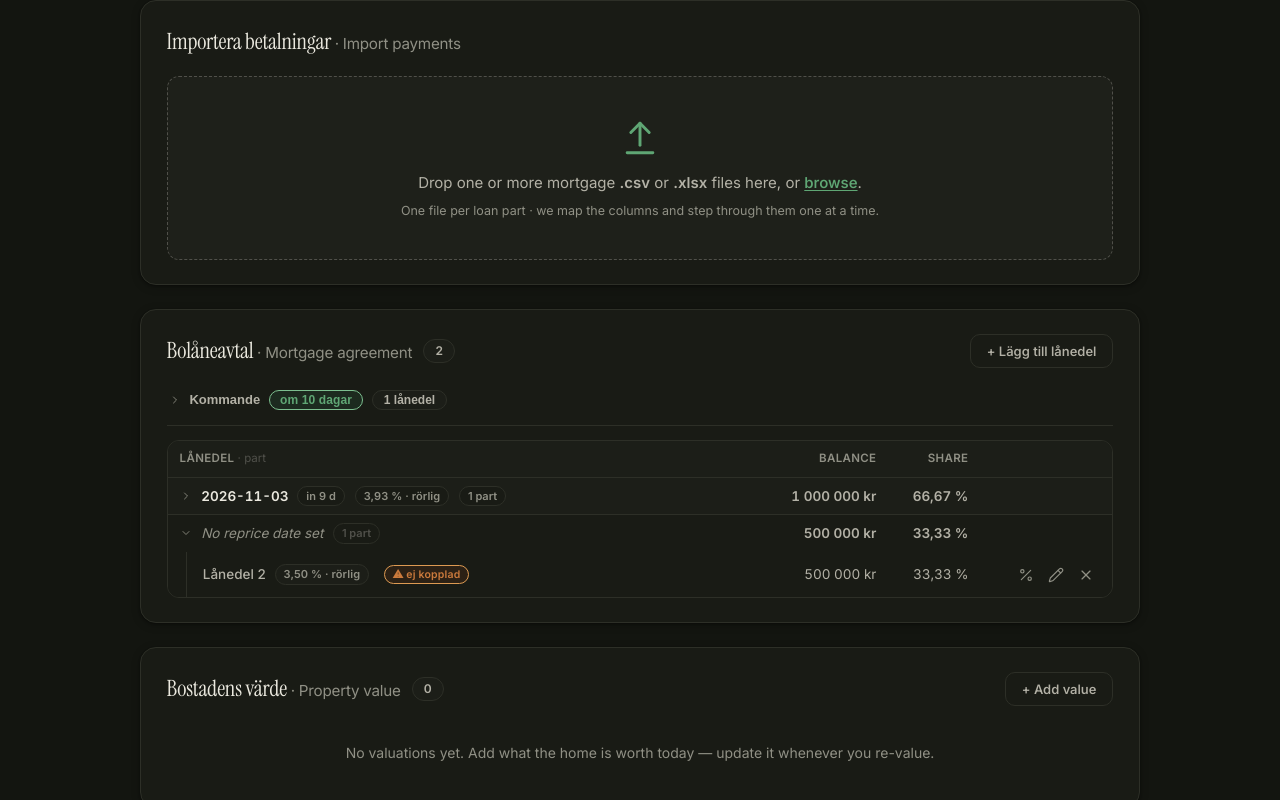
Test case: Bolanekoll — Kommande band (plan 127 §4) › expanding reveals every group and each row carries no balance/share values
The width and height of the screenshot is (1280, 800).
(page scrolled)
Click the button with aria-label "kommande ränteperioder" at point(308, 400), box [167,386,449,414]
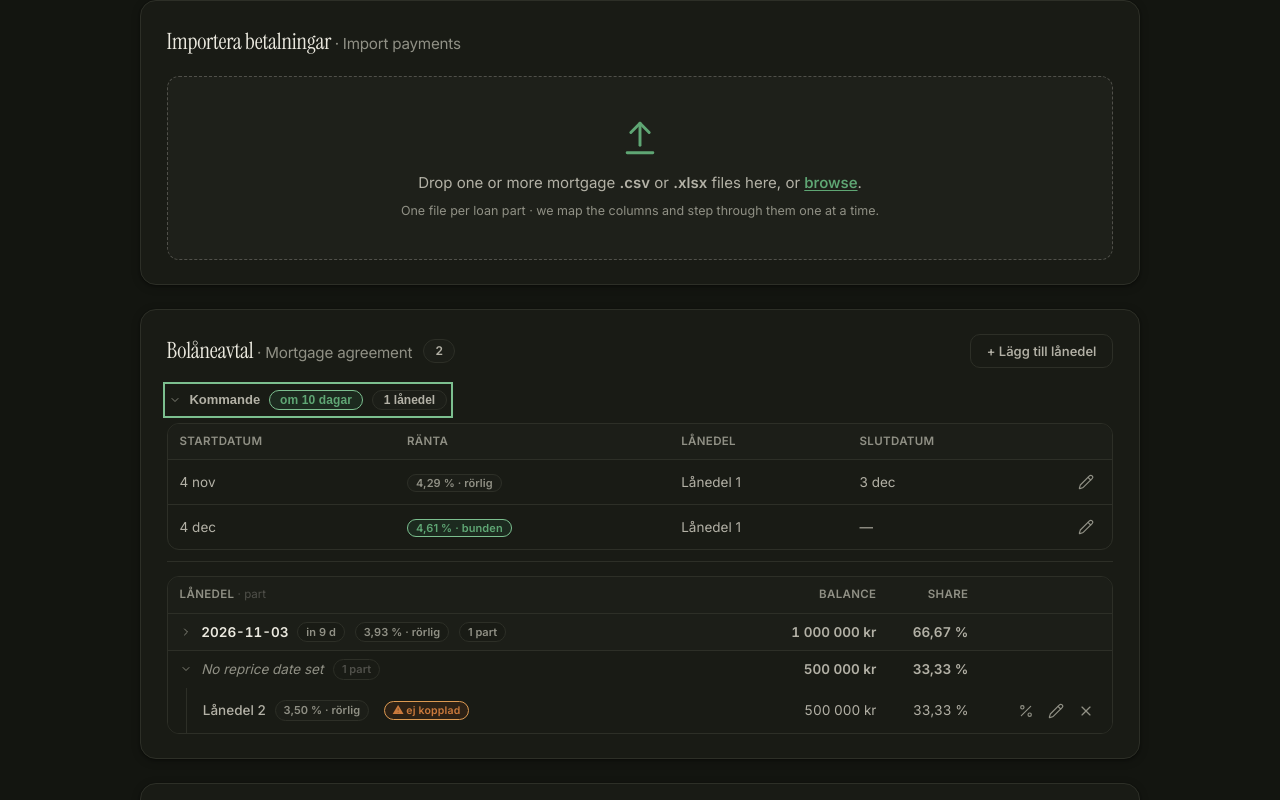
Now the text "4,29 % · rörlig" is shown, box [407,474,502,492]
Now the text "4,61 % · bunden" is shown, box [407,519,512,537]
Now the text "Lånedel 1" is shown 2 times, box [669,459,848,504]; [669,504,848,549]
